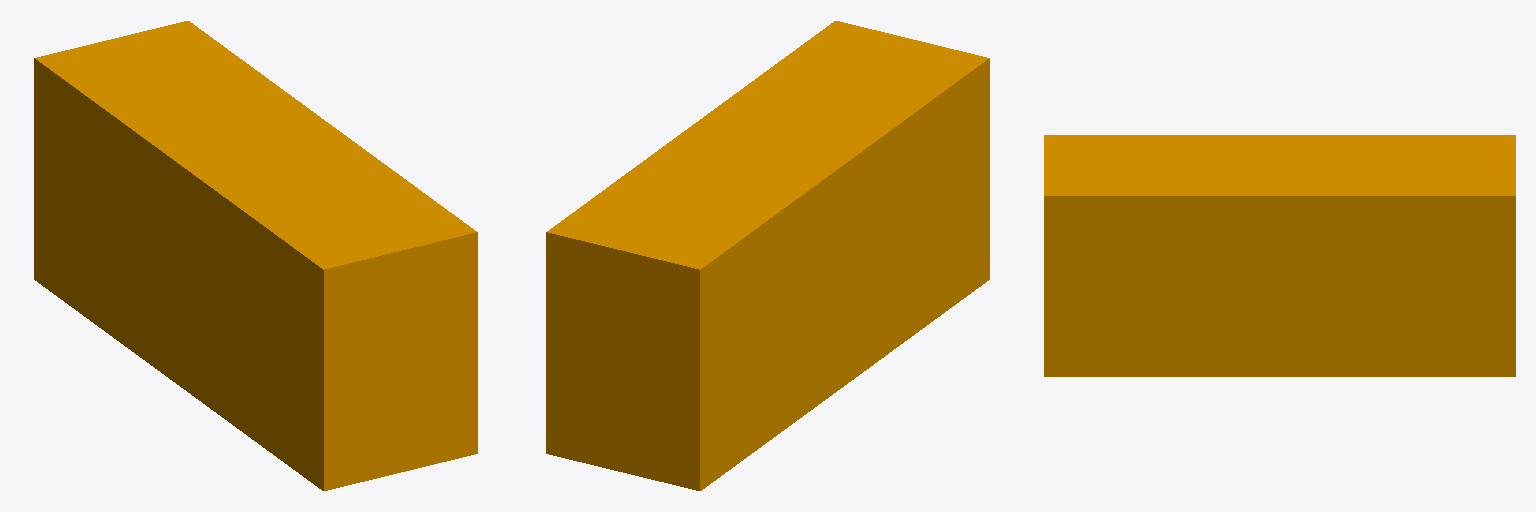
URDF robot description (room73b2-iemon):
<?xml version="1.0"?>
<robot name="room73b2-iemon"
       xmlns:xi="http://www.w3.org/2001/XInclude"
       >
  <gazebo>
    <static>false</static>
  </gazebo>
  <link name="nil_link">
    <visual>
      <origin xyz="0 0 0" rpy="0 -0 0"/>
      <geometry>
        <mesh filename="model://room73b2-iemon/meshes/nil_link_mesh.dae" scale="1 1 1" />
      </geometry>
    </visual>
    <collision>
      <origin xyz="0 0 0" rpy="0 -0 0"/>
      <geometry>
        <mesh filename="model://room73b2-iemon/meshes/nil_link_mesh.dae" scale="1 1 1" />
      </geometry>
    </collision>
    <inertial>
      <mass value="0.3" />
      <origin xyz="0 0 0" rpy="0 -0 0"/>
      <inertia ixx="1e-03" ixy="0" ixz="0" iyy="1e-03" iyz="0" izz="1e-03"/>
    </inertial>
  </link>
  <gazebo reference="nil_link">
    <mu1>0.9</mu1>
    <mu2>0.9</mu2>
  </gazebo>
</robot>

--- What the picture shows (computed from the rendered views, not written in the file) ---
3 views of the same robot in one strip: view 1: azimuth 30°, elevation 25°; view 2: azimuth 150°, elevation 25°; view 3: azimuth 270°, elevation 25° (orthographic).
Model room73b2-iemon with 1 links and 0 joints (none), rooted at nil_link, posed every joint at zero.
Links seen in each view (by area): view 1: nil_link; view 2: nil_link; view 3: nil_link.
Boxes of the visible links, box(x1,y1,x2,y2) form: nil_link: box(34, 21, 477, 490); nil_link: box(546, 21, 989, 490); nil_link: box(1044, 135, 1515, 376).
Size in the robot's own frame: 0.04 by 0.13 by 0.055 metres.
Meshes: 1 distinct files referenced, 1 mesh visuals loaded (1 Collada DAE).
